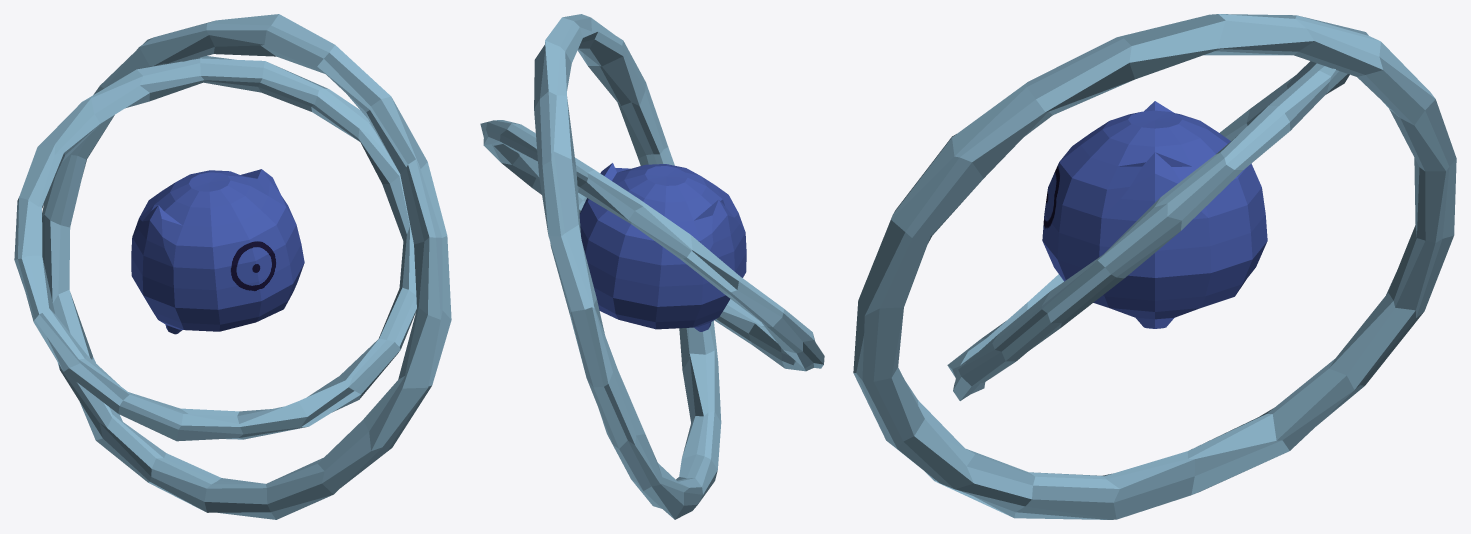
The model's file is water1.fbx.
The picture shows the model from 3 angles, left to right: view 1: azimuth 30°, elevation 25°; view 2: azimuth 150°, elevation 25°; view 3: azimuth 270°, elevation 25°; orthographic projection. The views are drawn at different scales.
Parts seen in each view (by area): view 1: big, small, Sphere; view 2: big, Sphere, small; view 3: big, Sphere, small.
Part boxes in pixels (bbox=[...]): big: bbox=[42, 14, 451, 519]; small: bbox=[14, 56, 416, 441]; Sphere: bbox=[131, 169, 304, 334]; big: bbox=[534, 14, 721, 519]; Sphere: bbox=[579, 163, 746, 331]; small: bbox=[480, 120, 824, 371]; big: bbox=[853, 14, 1456, 519]; Sphere: bbox=[1042, 101, 1267, 328]; small: bbox=[947, 61, 1349, 400].
Bounding box in the file's own units: 323 × 399 × 380.
Materials: 2 (2 with a texture image).
